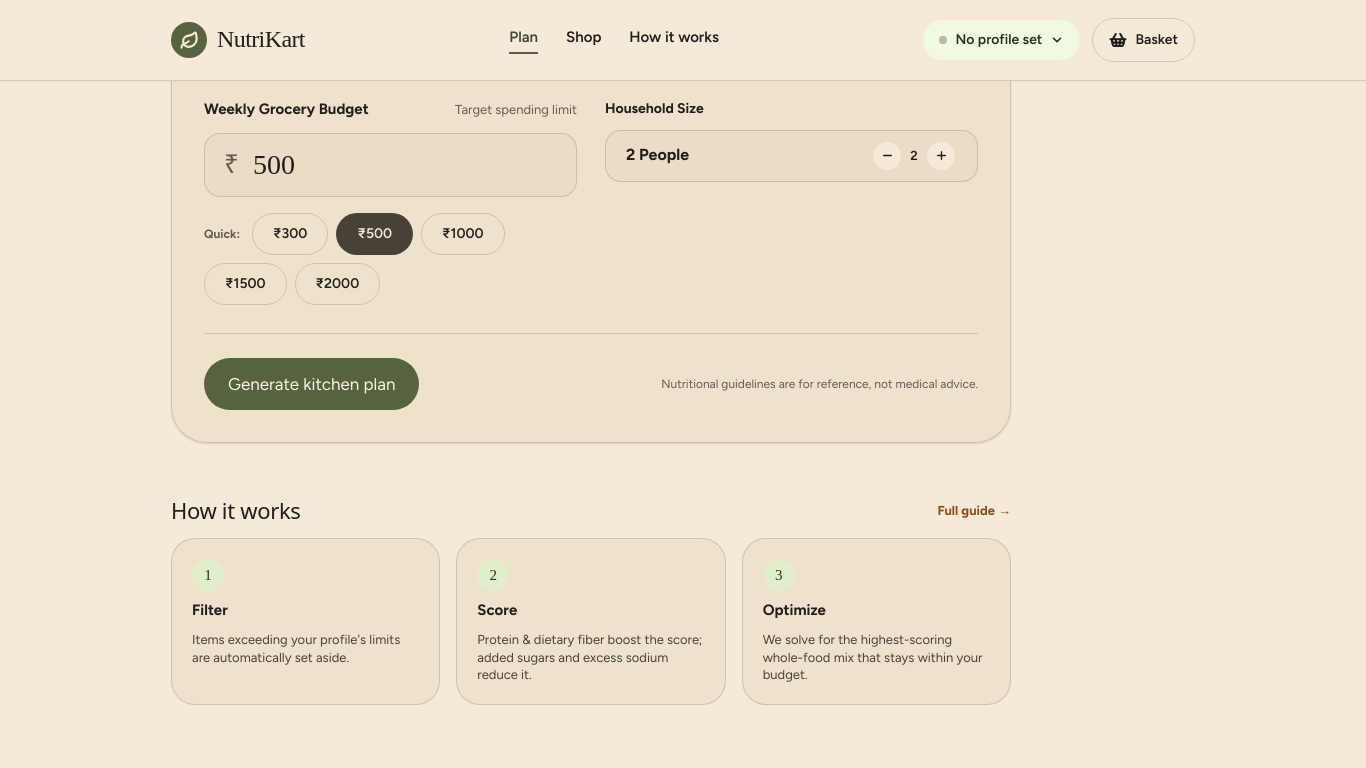
Test: Planner Request States › renders error state on API failure and provides retry action
The image size is (1366, 768).
(page scrolled)
Click the button "Generate kitchen plan": click(312, 384) [204,358,419,410]
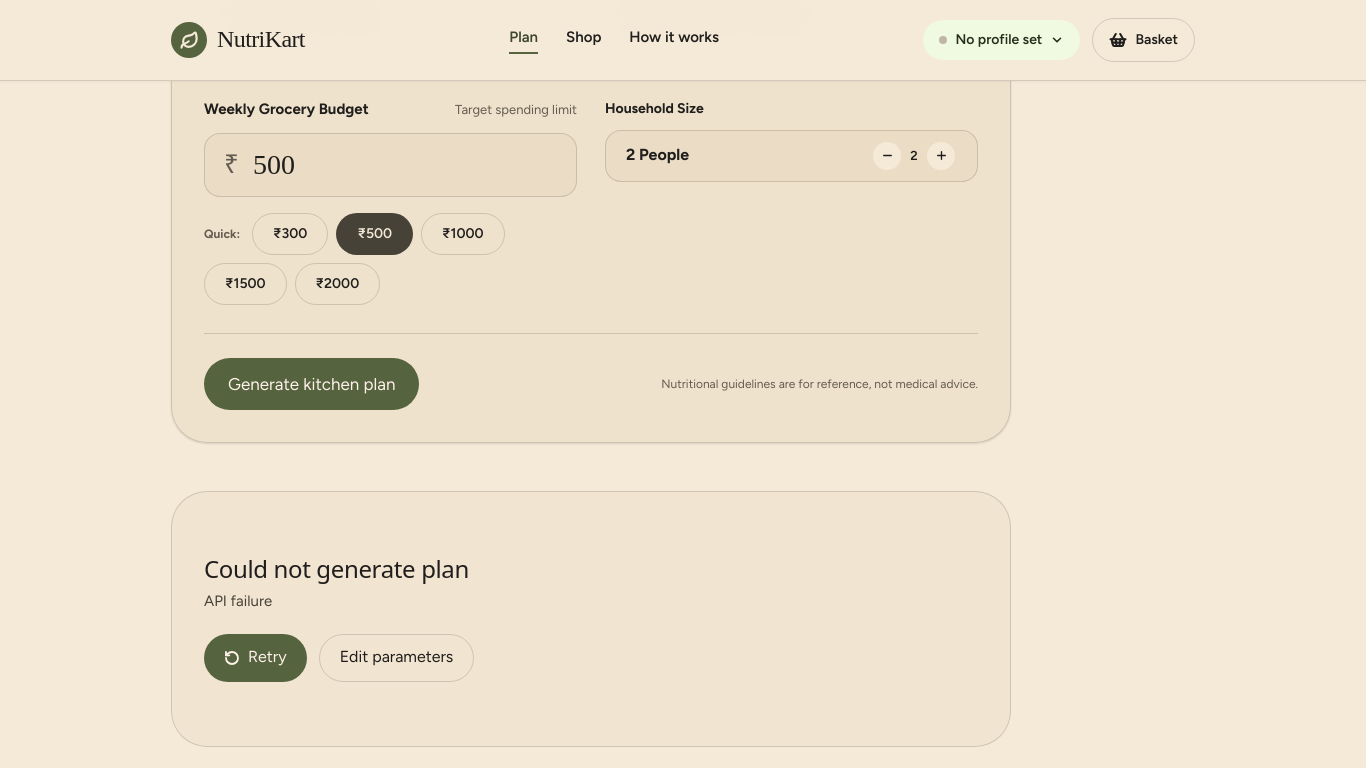
Check: the heading "Could not generate plan" is shown, box [204,556,469,582]
Check: the button "Retry" is shown, box [204,634,307,682]
